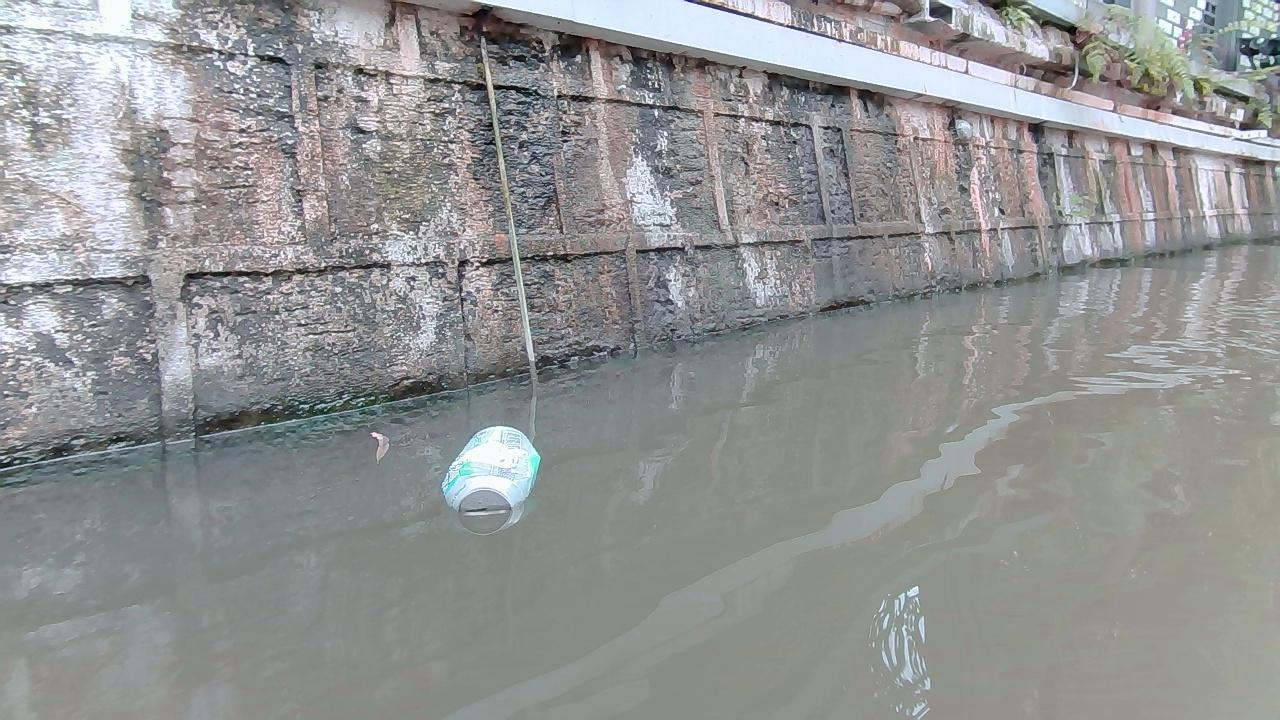Metal: (439, 424, 542, 515)
